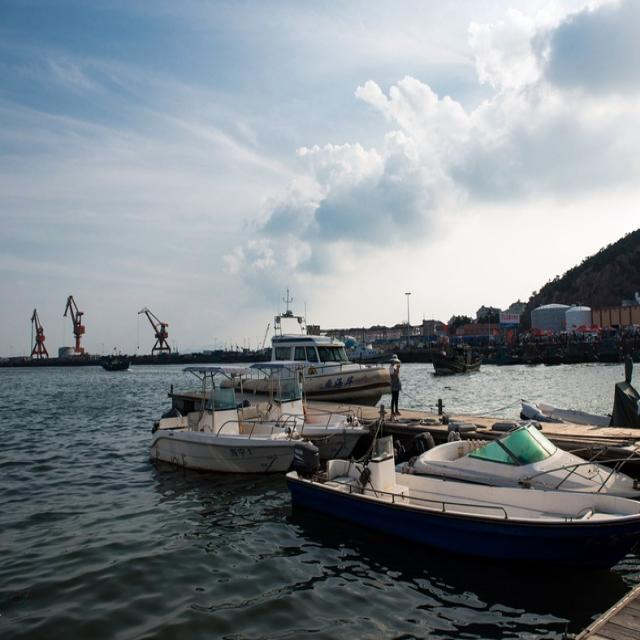passenger ship: (312, 392, 582, 570), (104, 352, 319, 506), (230, 303, 392, 394)
